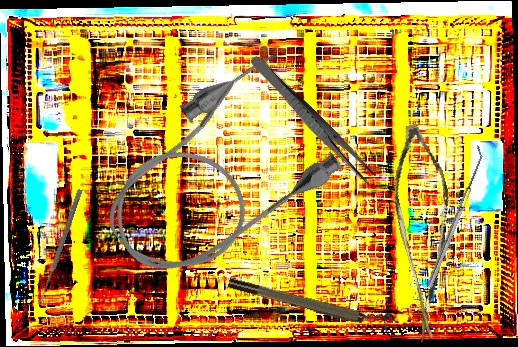Cannula: (76, 40, 357, 304)
Dressing Forceps: (245, 53, 379, 186)
Fixation Ring: (226, 267, 396, 338)
Micro Scissor: (366, 120, 485, 345)
Spatula Surgical: (421, 145, 488, 288)
Surgical Spoon: (37, 188, 83, 306)
